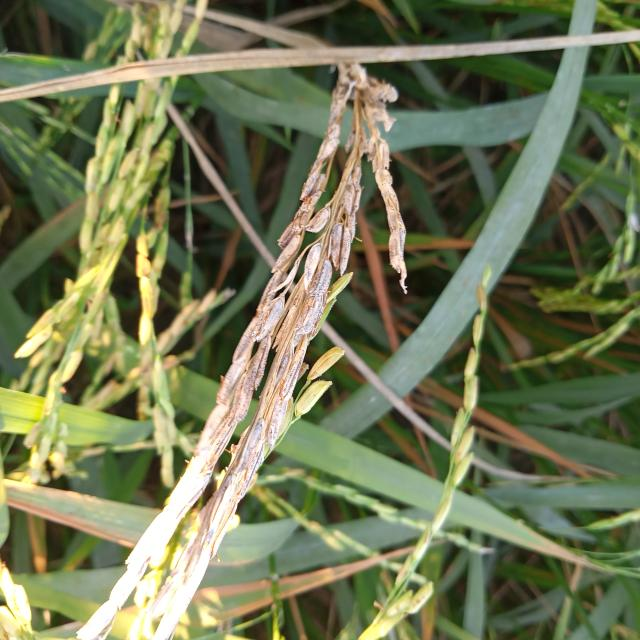Neck_Blast: (214, 144, 364, 511), (369, 121, 409, 294)
